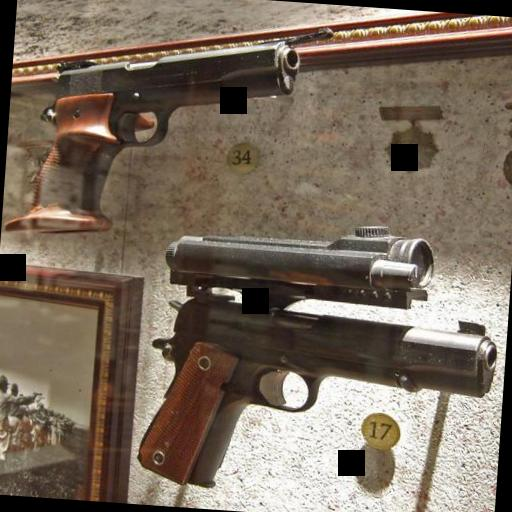Handgun: (116, 202, 508, 510), (1, 16, 303, 252)
